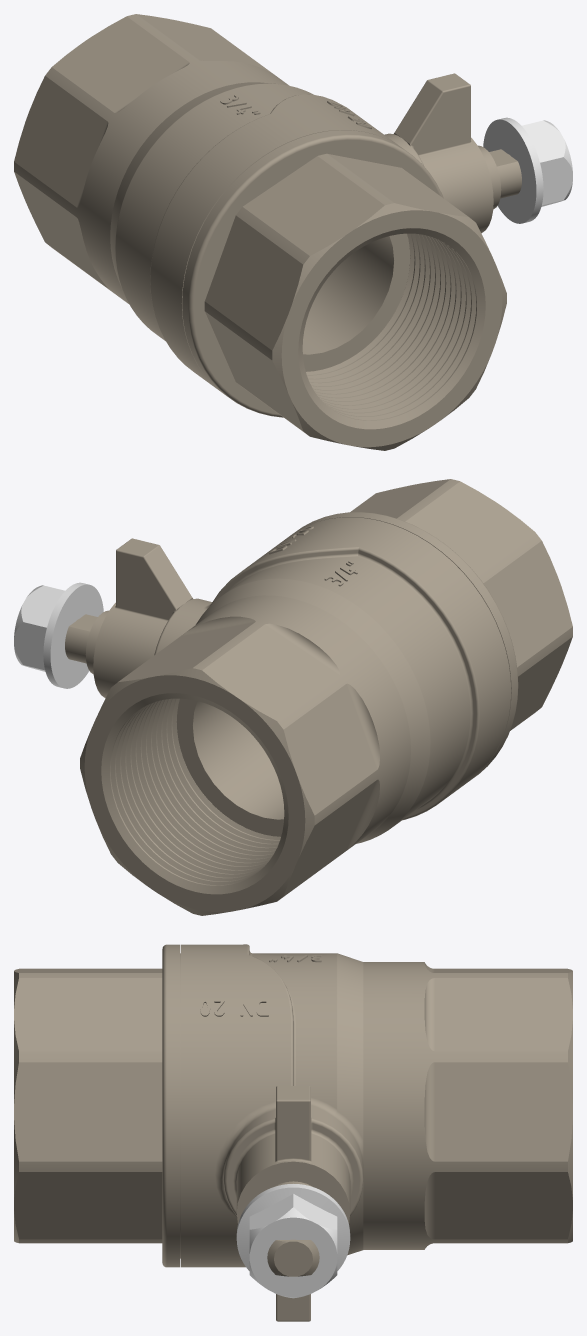
The model's file is body.dae.
3 renders of one model, top to bottom at view 1: azimuth 30°, elevation 25°; view 2: azimuth 150°, elevation 25°; view 3: azimuth 270°, elevation 25°, orthographic. The views are drawn at different scales.
Visible parts, largest first — view 1: o Mesh_1, o Mesh_2; view 2: o Mesh_1, o Mesh_2; view 3: o Mesh_1, o Mesh_2.
Boxes of the visible parts, left/top/right/bottom form: o Mesh_1: left=14, top=14, right=521, bottom=450; o Mesh_2: left=483, top=117, right=572, bottom=223; o Mesh_1: left=65, top=479, right=572, bottom=915; o Mesh_2: left=14, top=582, right=103, bottom=688; o Mesh_1: left=14, top=944, right=572, bottom=1321; o Mesh_2: left=236, top=1184, right=350, bottom=1298.
Size of the model in its own units: 0.06 by 0.037 by 0.064.
